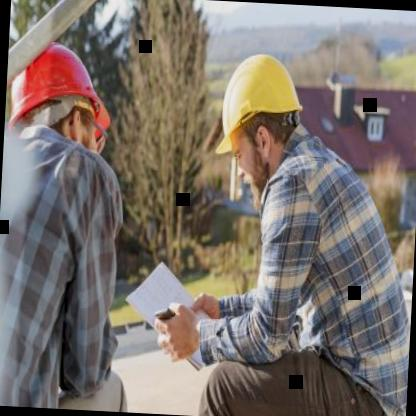helmet: (3, 23, 125, 192), (211, 44, 305, 200)
